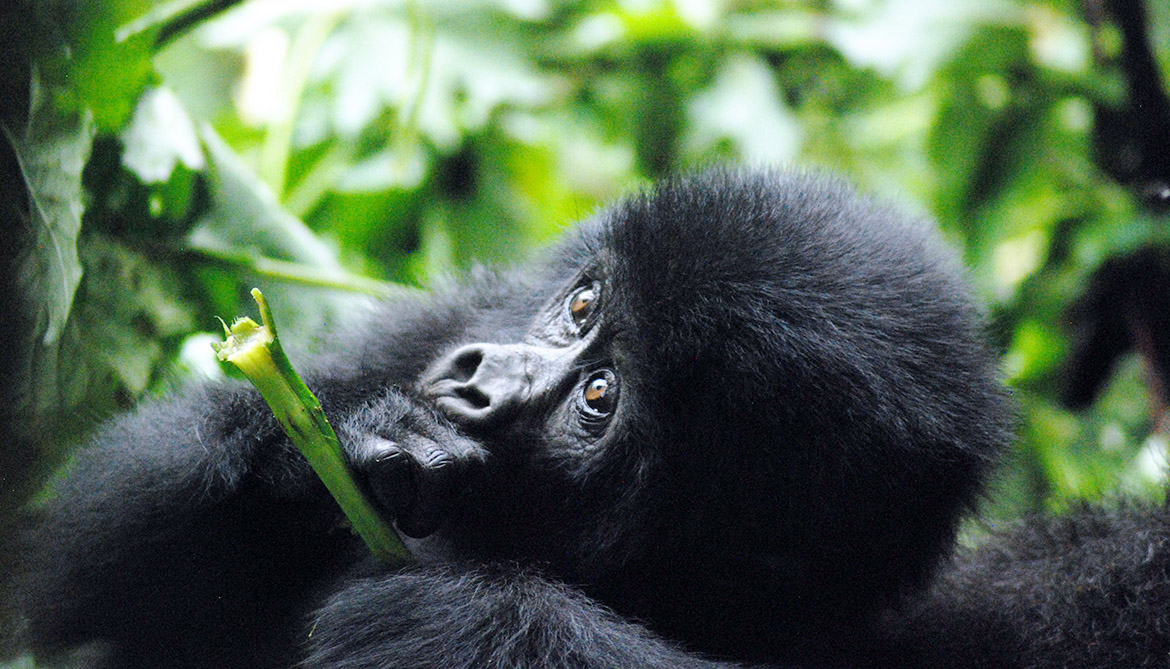Goriila: (59, 137, 1162, 669)
